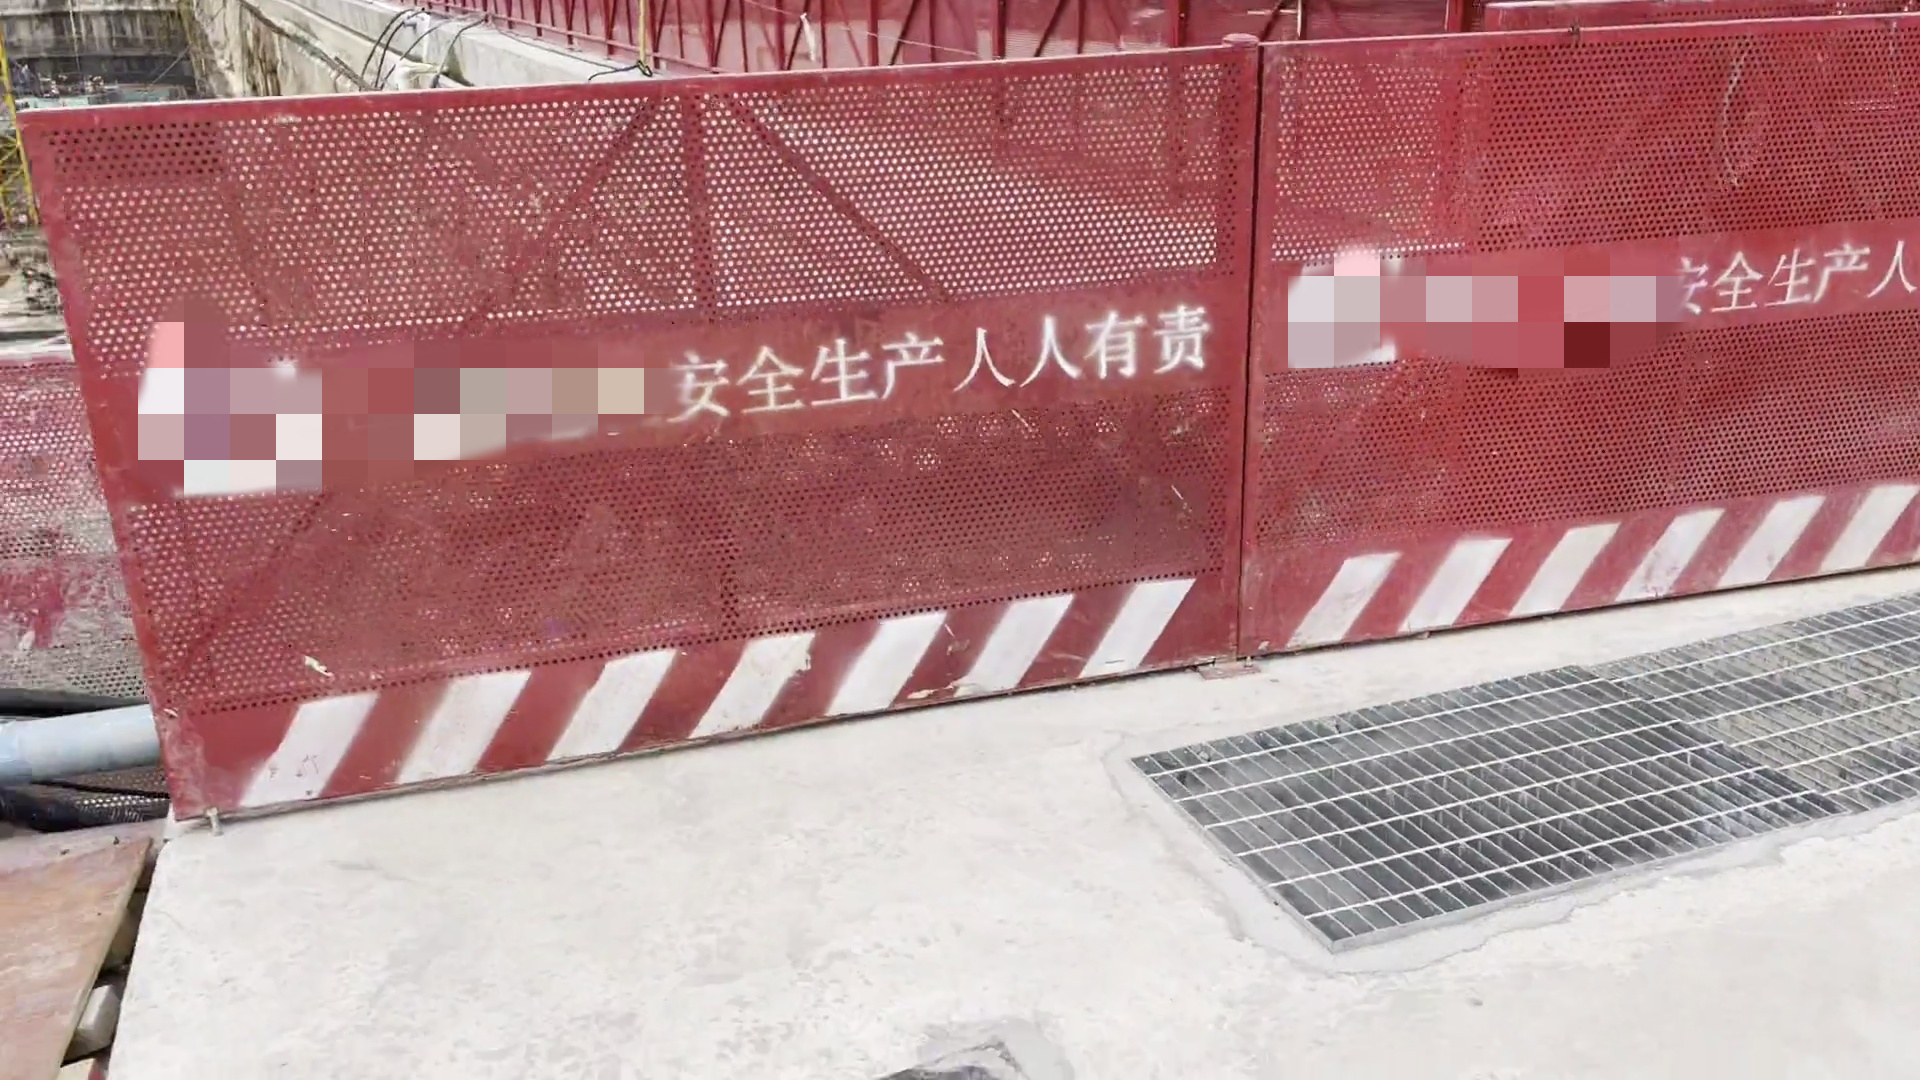board: (1, 811, 165, 1080)
fence: (18, 37, 1279, 825), (1276, 4, 1920, 673), (568, 1, 1495, 88)
